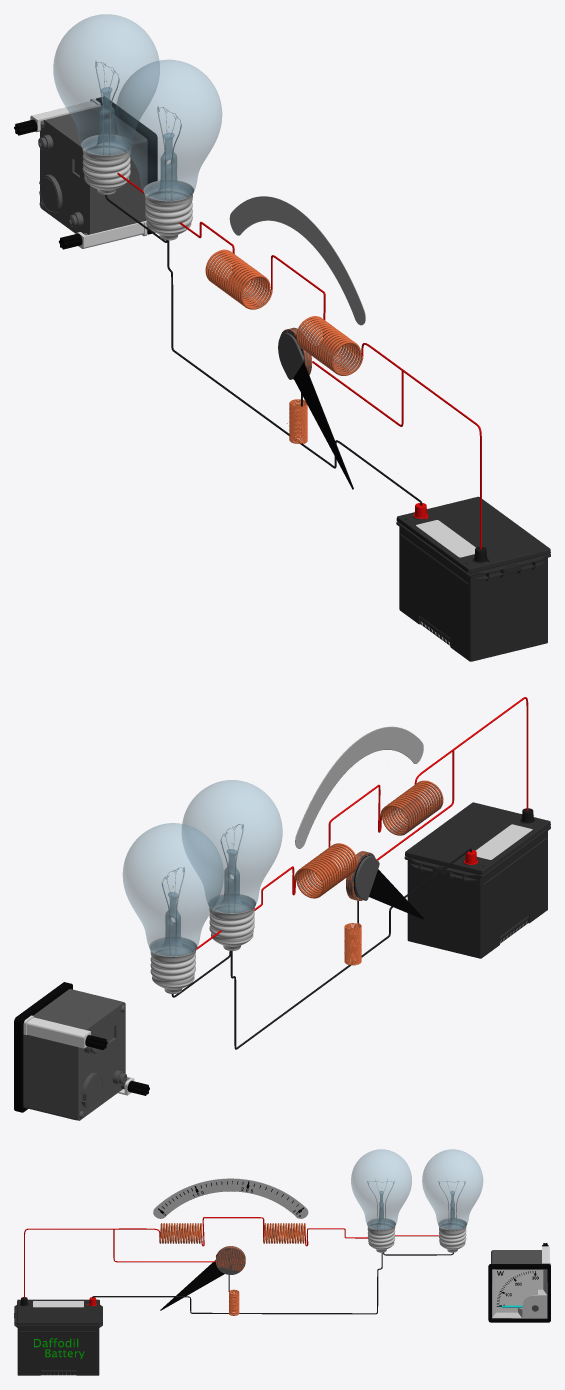
Rendered from CC PC compress.glb.
The picture shows the model from 3 angles, top to bottom: view 1: azimuth 30°, elevation 25°; view 2: azimuth 150°, elevation 25°; view 3: azimuth 270°, elevation 25°; orthographic projection. The views are drawn at different scales.
Parts seen in each view (by area): view 1: Bulb.001, Battery, Watt_Meter, Current_Coil, meter_lebel, Pointer, Red_Wire, Black_Wire, Pressure_Coil; view 2: Bulb.001, Battery, Watt_Meter, Current_Coil, meter_lebel, Pointer, Red_Wire, Black_Wire, Pressure_Coil; view 3: Bulb.001, Battery, Watt_Meter, meter_lebel, Current_Coil, Pointer, Red_Wire, Black_Wire.
Boxes of the visible parts, x1=… form: Bulb.001: x1=53, y1=14, x2=222, y2=240; Battery: x1=396, y1=496, x2=550, y2=661; Watt_Meter: x1=14, y1=97, x2=157, y2=249; Current_Coil: x1=205, y1=249, x2=363, y2=375; meter_lebel: x1=229, y1=196, x2=365, y2=325; Pointer: x1=278, y1=327, x2=353, y2=489; Red_Wire: x1=117, y1=172, x2=481, y2=549; Black_Wire: x1=105, y1=195, x2=422, y2=505; Pressure_Coil: x1=289, y1=399, x2=307, y2=443; Bulb.001: x1=122, y1=780, x2=282, y2=993; Battery: x1=404, y1=802, x2=550, y2=958; Watt_Meter: x1=14, y1=982, x2=149, y2=1120; Current_Coil: x1=294, y1=780, x2=443, y2=898; meter_lebel: x1=295, y1=726, x2=423, y2=848; Pointer: x1=346, y1=851, x2=423, y2=919; Red_Wire: x1=196, y1=697, x2=528, y2=949; Black_Wire: x1=171, y1=848, x2=471, y2=1049; Pressure_Coil: x1=344, y1=923, x2=361, y2=965; Bulb.001: x1=351, y1=1149, x2=483, y2=1252; Battery: x1=14, y1=1297, x2=102, y2=1375; Watt_Meter: x1=488, y1=1243, x2=550, y2=1322; meter_lebel: x1=153, y1=1178, x2=308, y2=1218; Current_Coil: x1=159, y1=1223, x2=306, y2=1243; Pointer: x1=160, y1=1246, x2=245, y2=1310; Red_Wire: x1=24, y1=1217, x2=439, y2=1298; Black_Wire: x1=92, y1=1252, x2=453, y2=1314.
Size of the model in its own units: 0.284 by 0.7608 by 1.79.
Materials: 3 (3 with a texture image).
